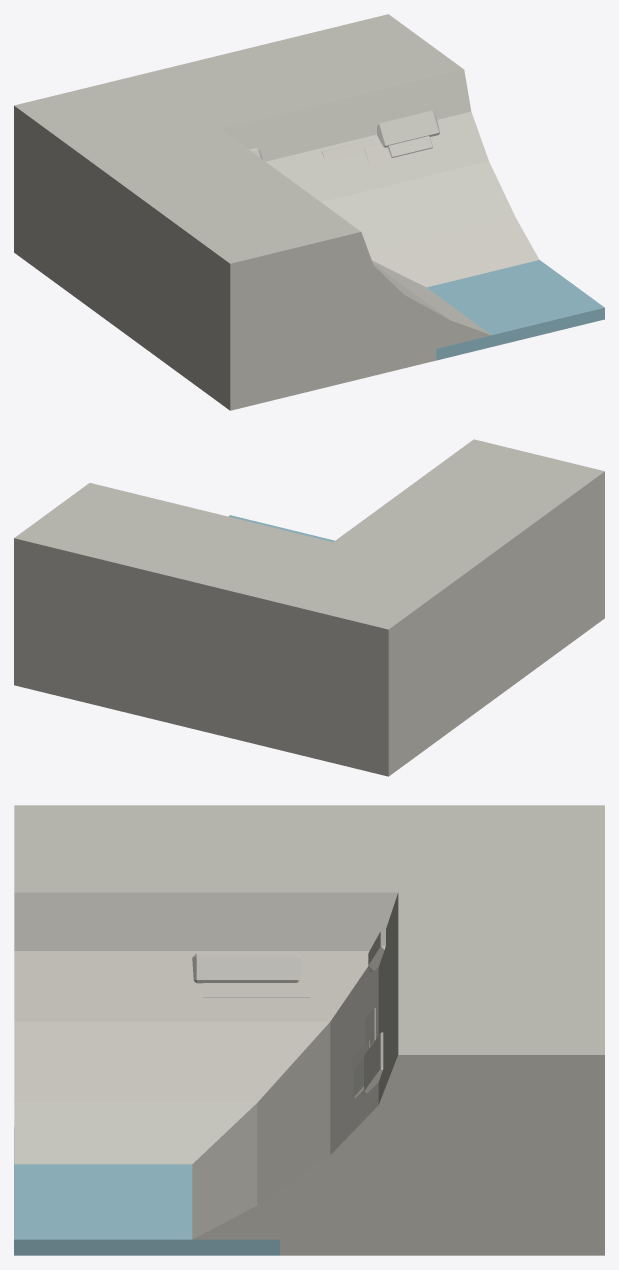
File: feudal-japan-castle-town-moat-edge-inner-corner-9d04fa76__26590.glb
3 views of the same model, one above another, from view 1: azimuth 30°, elevation 25°; view 2: azimuth 150°, elevation 25°; view 3: azimuth 270°, elevation 25° (orthographic). The views are drawn at different scales.
Parts seen in each view (by area): view 1: moat-edge-inner-corner; view 2: moat-edge-inner-corner; view 3: moat-edge-inner-corner.
Boxes of the visible parts, x1,y1,x2,y2 form: moat-edge-inner-corner: [14, 14, 604, 410]; moat-edge-inner-corner: [14, 439, 604, 776]; moat-edge-inner-corner: [14, 805, 604, 1255].
Size of the model in its own units: 4 by 1.5 by 4.
